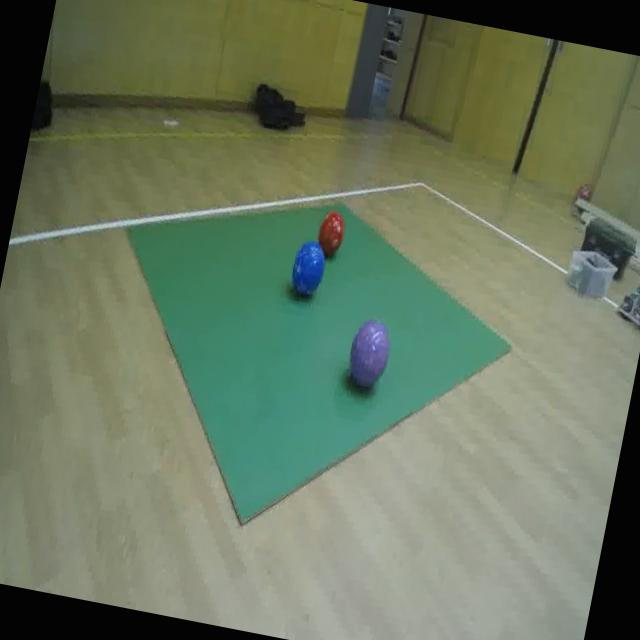blue_ball: (288, 239, 330, 303)
purple_ball: (344, 316, 394, 394)
red_ball: (315, 208, 348, 258)
